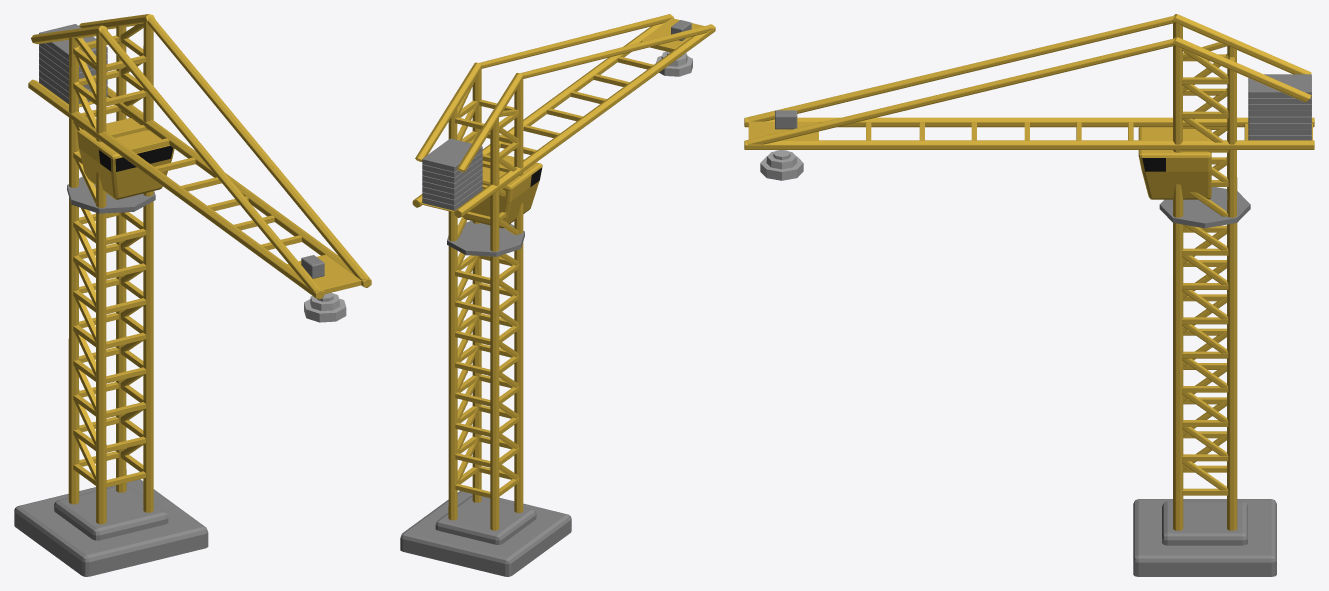
File: Crane.glb
3 renders of one model, left to right at view 1: azimuth 30°, elevation 25°; view 2: azimuth 150°, elevation 25°; view 3: azimuth 270°, elevation 25°, orthographic. The views are drawn at different scales.
Visible parts, largest first — view 1: Crane_Bottom, Crane_Top, Hook; view 2: Crane_Bottom, Crane_Top, Hook; view 3: Crane_Top, Crane_Bottom, Hook.
Part boxes in pixels (x1,y1,x2,y2): Crane_Bottom: (14,197,208,576); Crane_Top: (28,14,371,299); Hook: (304,292,346,322); Crane_Bottom: (400,242,571,576); Crane_Top: (412,14,715,256); Hook: (655,51,692,76); Crane_Top: (744,14,1314,228); Crane_Bottom: (1133,223,1276,576); Hook: (760,150,803,180).
Size of the model in its own units: 2.66 by 10.63 by 10.55.
